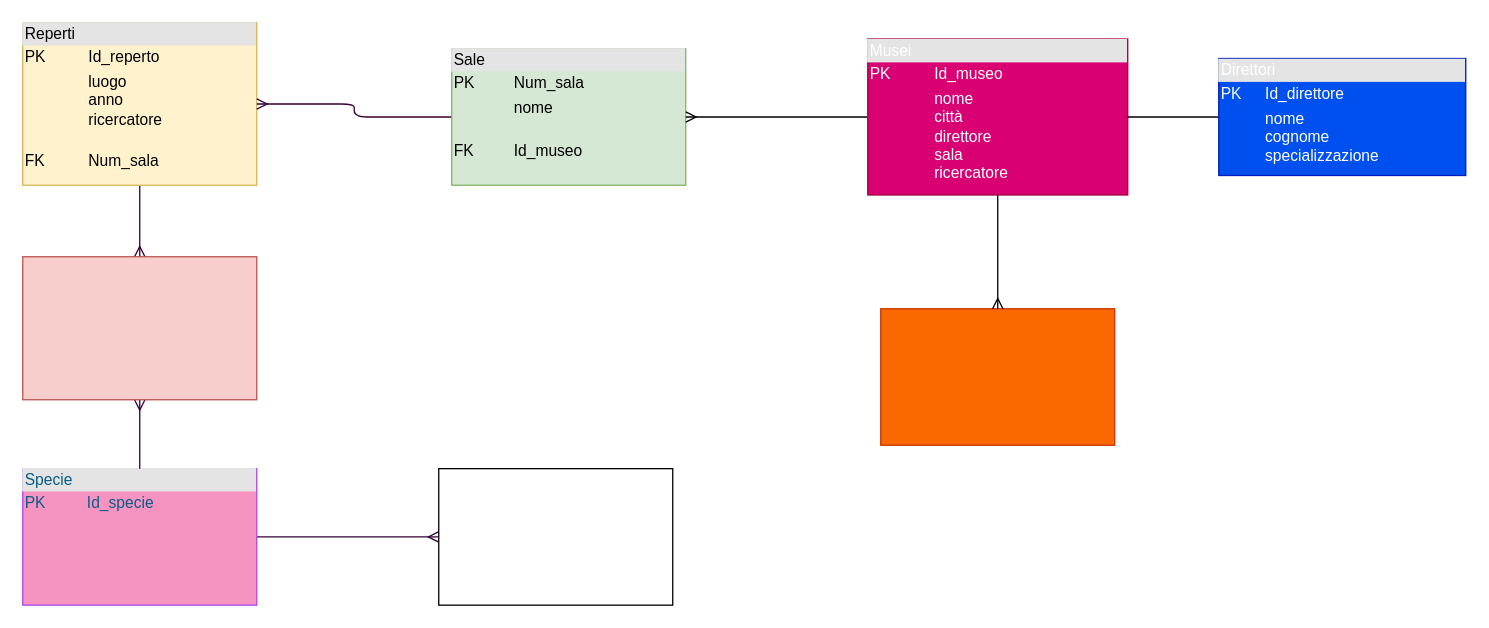
This 1489x628 diagram has some shape labels left out. The shapes that lost their labels are listed below. From the top down, each one's centre as x and y in pixels, then its label:
At [139,327]: "RepertiSpecie PK Id_reperto_specie probabilità FK Id_reperto Id_specie".
At [997,376]: "Ricercatori PK Id_ricercatore nome cognome specializzazione FK Id_museo".
At [555,536]: "Nomi PK Id_nome denominazione data FK Id_specie".
